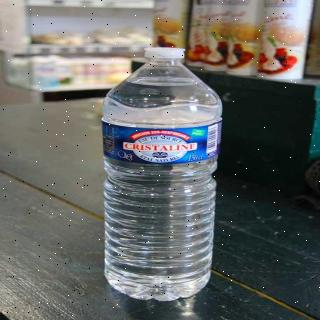Plastic-bottle: (96, 42, 232, 306)
